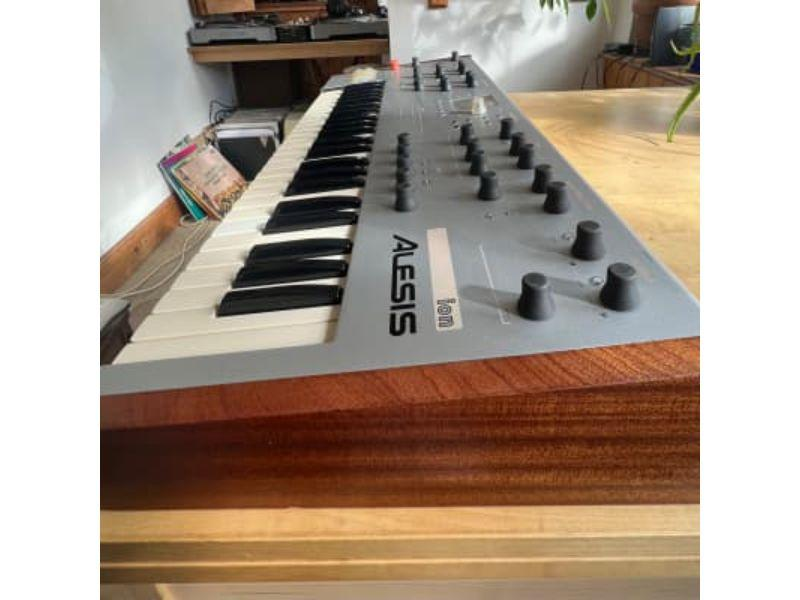synthesizer: (144, 45, 678, 520)
